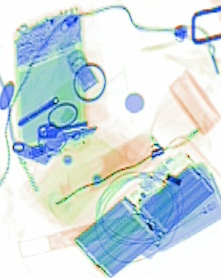powerbank: (73, 163, 215, 276)
